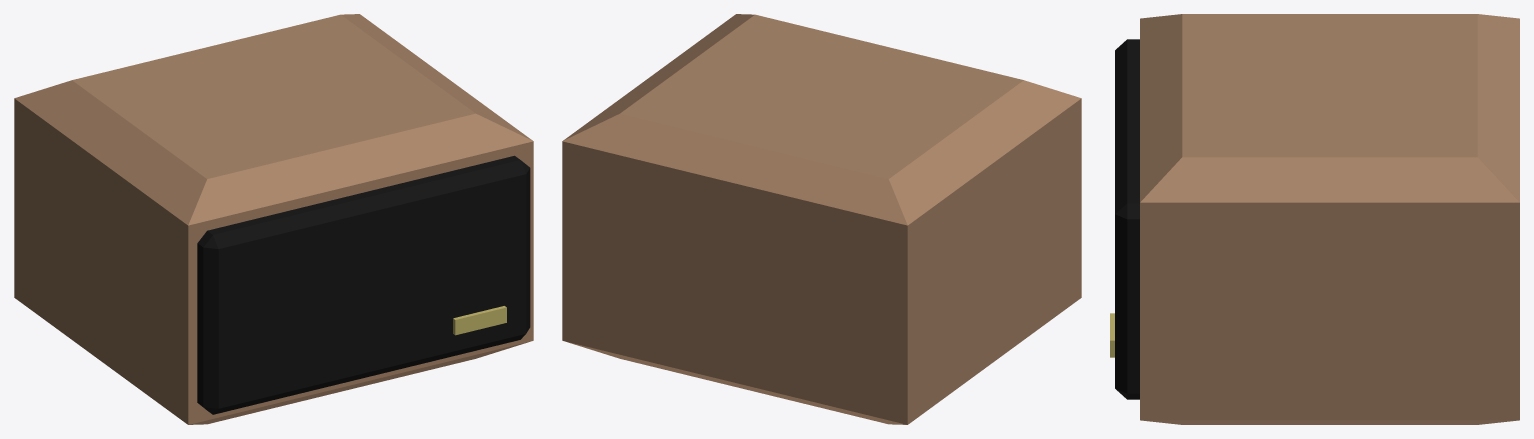
The model's file is Speaker.gltf.
The picture shows the model from 3 angles, left to right: view 1: azimuth 30°, elevation 25°; view 2: azimuth 150°, elevation 25°; view 3: azimuth 270°, elevation 25°; orthographic projection. The views are drawn at different scales.
Parts seen in each view (by area): view 1: Speaker; view 2: Speaker; view 3: Speaker.
Boxes of the visible parts, x1,y1,x2,y2 form: Speaker: (14,14,533,424); Speaker: (562,14,1081,424); Speaker: (1110,14,1519,424).
Bounding box in the file's own units: 0.4253 × 0.2883 × 0.4.
